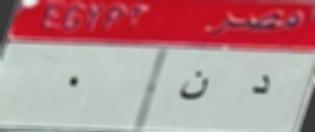0: (65, 70, 82, 94)
daal: (247, 69, 273, 103)
noon: (176, 64, 210, 110)
